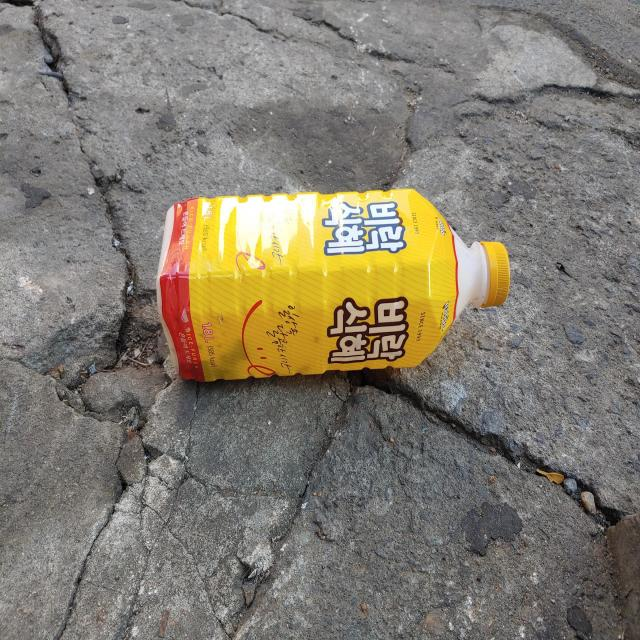plastic: (156, 188, 511, 381)
